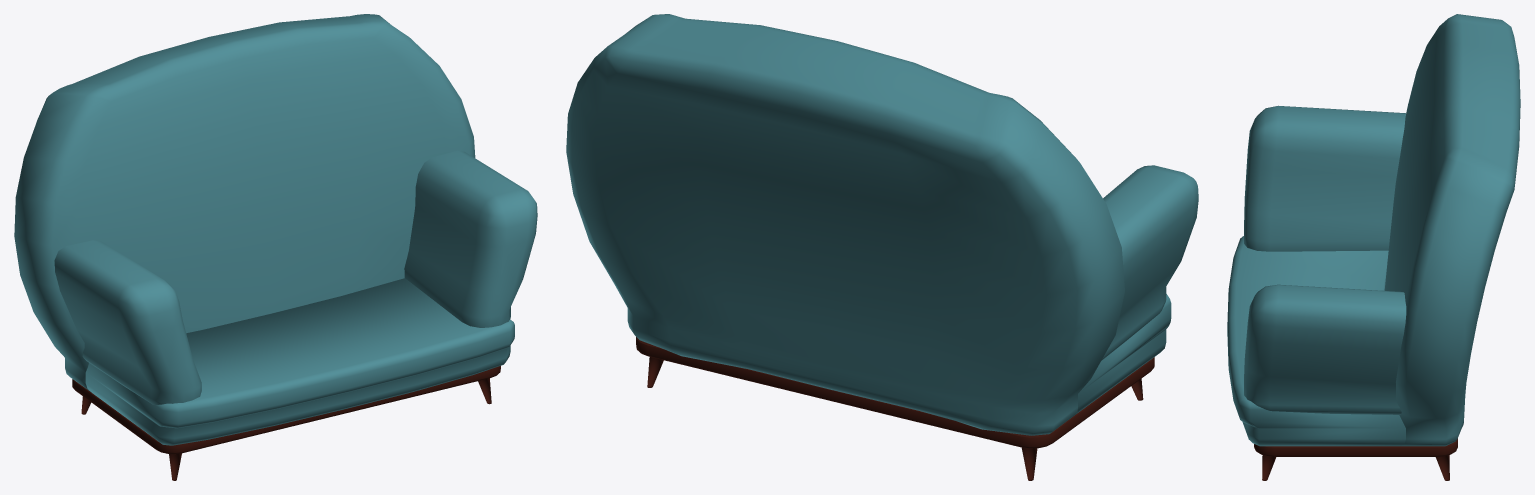
File: Divan.fbx
3 views of the same model, side by side, from view 1: azimuth 30°, elevation 25°; view 2: azimuth 150°, elevation 25°; view 3: azimuth 270°, elevation 25° (orthographic). The views are drawn at different scales.
Parts seen in each view (by area): view 1: Cube.001, Cube.003, Cube.002, Plane, Plane.001; view 2: Cube.001, Cube.002, Plane, Cube.003, Plane.001; view 3: Cube.002, Cube.001, Cube.003, Plane, Plane.001.
Part boxes in pixels (bbox=[...]): Cube.001: bbox=[14, 14, 475, 392]; Cube.003: bbox=[85, 278, 514, 445]; Cube.002: bbox=[54, 150, 537, 404]; Plane: bbox=[72, 366, 500, 454]; Plane.001: bbox=[81, 378, 491, 480]; Cube.001: bbox=[566, 14, 1124, 435]; Cube.002: bbox=[1101, 165, 1198, 360]; Plane: bbox=[636, 337, 1154, 448]; Cube.003: bbox=[1076, 294, 1171, 413]; Plane.001: bbox=[647, 357, 1143, 480]; Cube.002: bbox=[1244, 105, 1406, 414]; Cube.001: bbox=[1384, 14, 1520, 446]; Cube.003: bbox=[1227, 236, 1405, 446]; Plane: bbox=[1254, 438, 1457, 456]; Plane.001: bbox=[1262, 455, 1449, 480].
Size of the model in its own units: 0.9865 by 0.7084 by 0.5693.
Materials: 5 (5 with a texture image).
